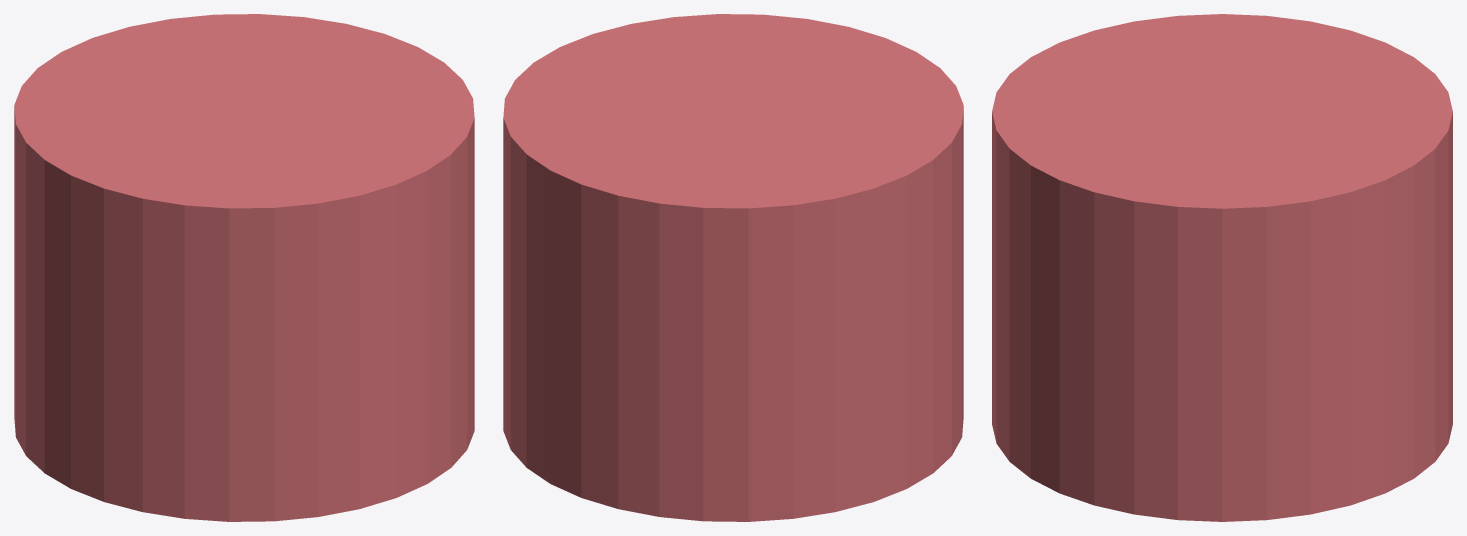
File: oddity_0010.glb
The picture shows the model from 3 angles, left to right: view 1: azimuth 30°, elevation 25°; view 2: azimuth 150°, elevation 25°; view 3: azimuth 270°, elevation 25°; orthographic projection.
Visible parts, largest first — view 1: oddity_0010_Cylinder; view 2: oddity_0010_Cylinder; view 3: oddity_0010_Cylinder.
Part boxes in pixels (box(x1,y1,x2,y2)): oddity_0010_Cylinder: box(14, 14, 474, 521); oddity_0010_Cylinder: box(503, 14, 963, 521); oddity_0010_Cylinder: box(992, 14, 1452, 521).
Bounding box in the file's own units: 0.24 × 0.18 × 0.24.
